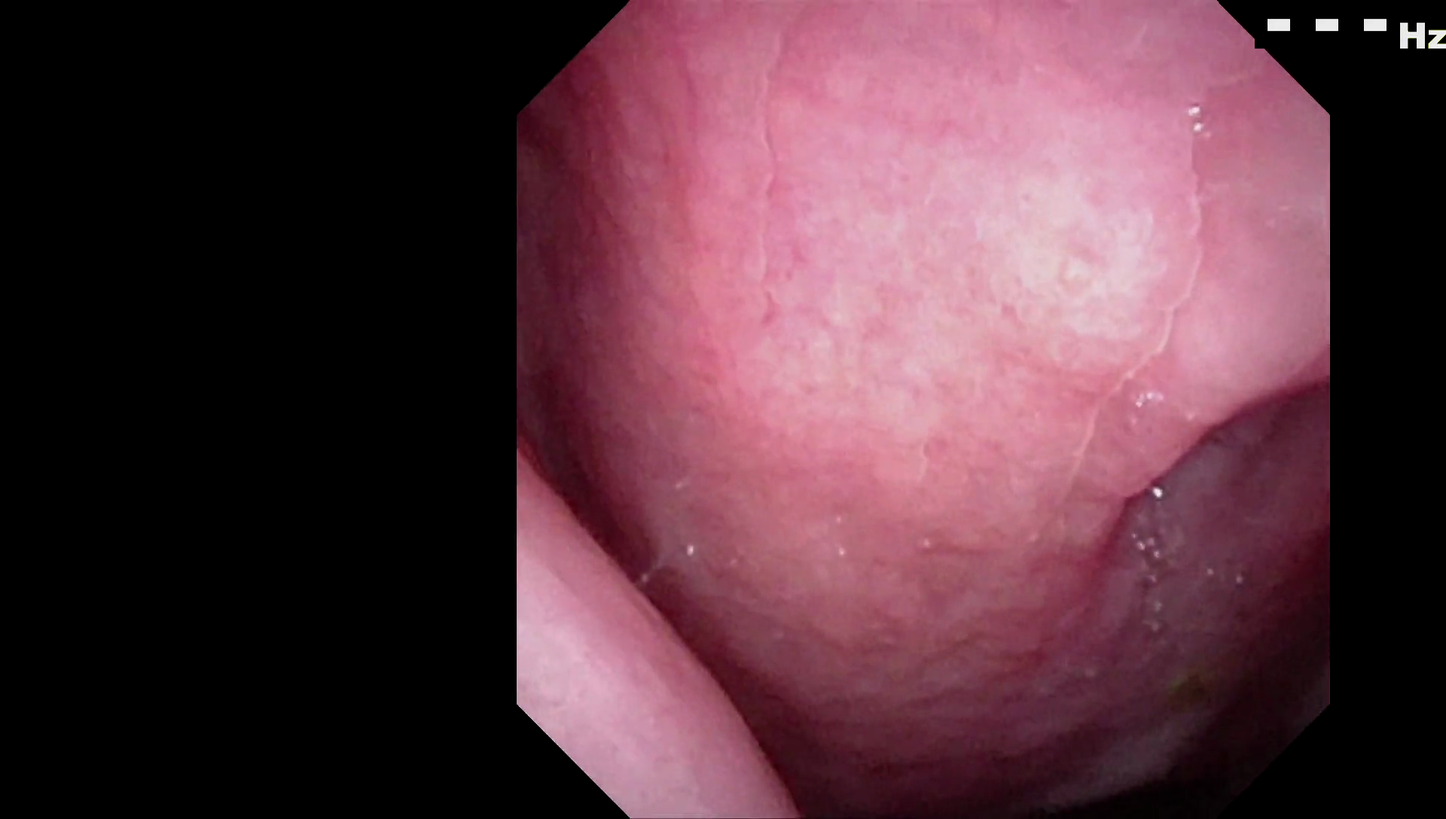close_wall: (664, 55, 1217, 477)
next: (1089, 593, 1303, 796)
